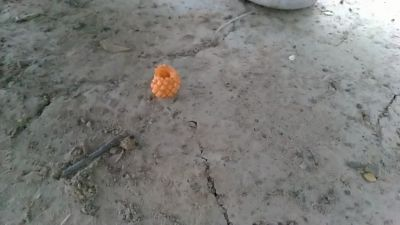eggs: (151, 62, 182, 105)
